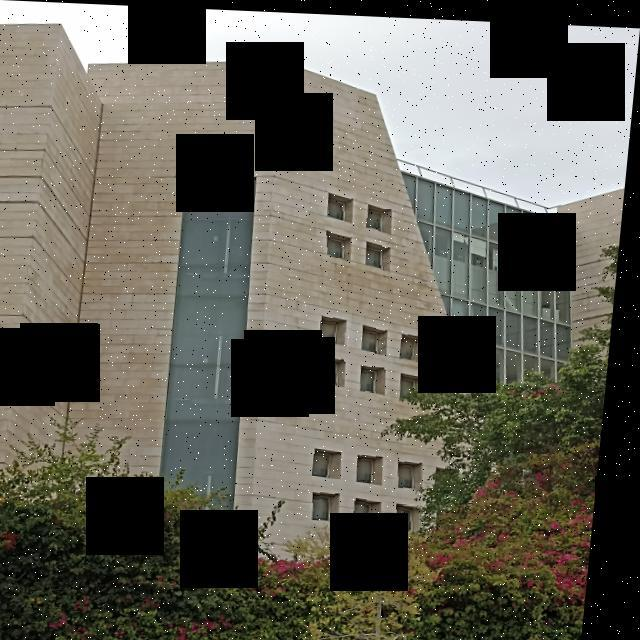Window: (323, 310, 357, 345), (320, 488, 350, 522), (362, 492, 392, 525), (321, 445, 350, 479), (324, 226, 356, 255), (362, 450, 393, 479), (364, 322, 392, 352), (404, 456, 432, 486), (404, 500, 432, 530), (444, 462, 472, 492), (406, 369, 431, 401), (323, 354, 351, 382), (406, 329, 430, 359), (330, 193, 358, 218), (371, 238, 394, 268), (368, 362, 392, 390), (370, 204, 396, 228)
